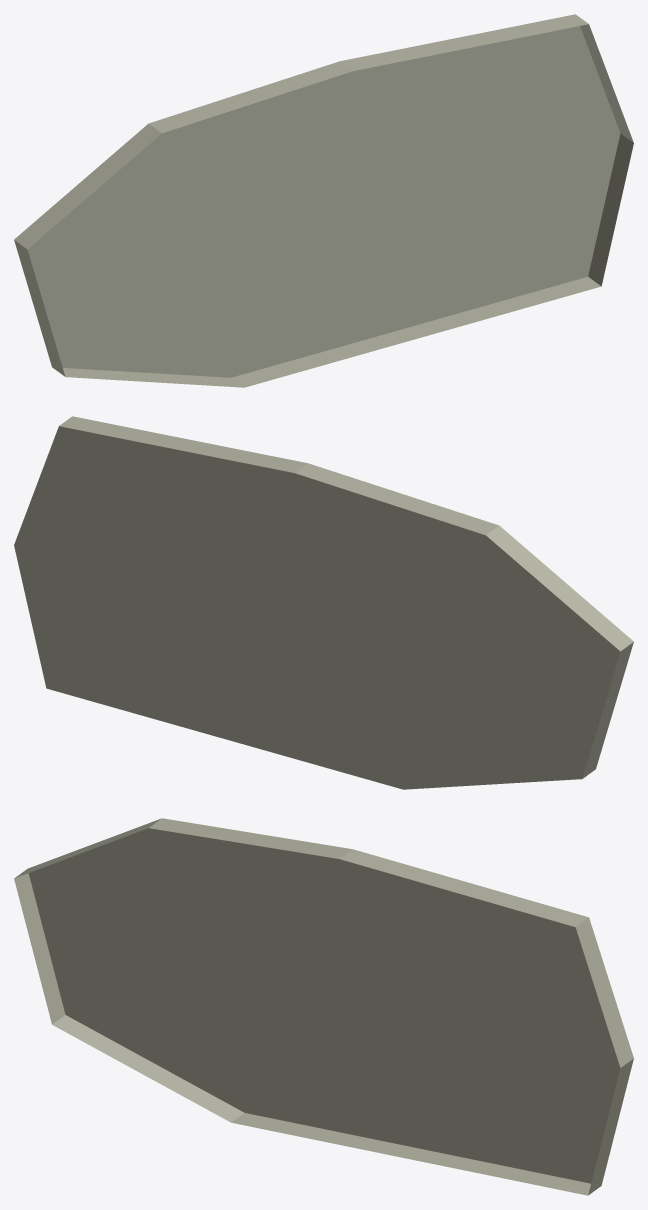
Rendered from Stone Tile 02.FBX.
The picture shows the model from 3 angles, top to bottom: view 1: azimuth 30°, elevation 25°; view 2: azimuth 150°, elevation 25°; view 3: azimuth 330°, elevation 25°; orthographic projection.
Visible parts, largest first — view 1: Stone Tile 02; view 2: Stone Tile 02; view 3: Stone Tile 02.
Boxes of the visible parts, x1,y1,x2,y2 form: Stone Tile 02: [14, 14, 633, 387]; Stone Tile 02: [14, 416, 633, 789]; Stone Tile 02: [14, 818, 633, 1195].
Bounding box in the file's own units: 89.49 × 3.45 × 40.89.
